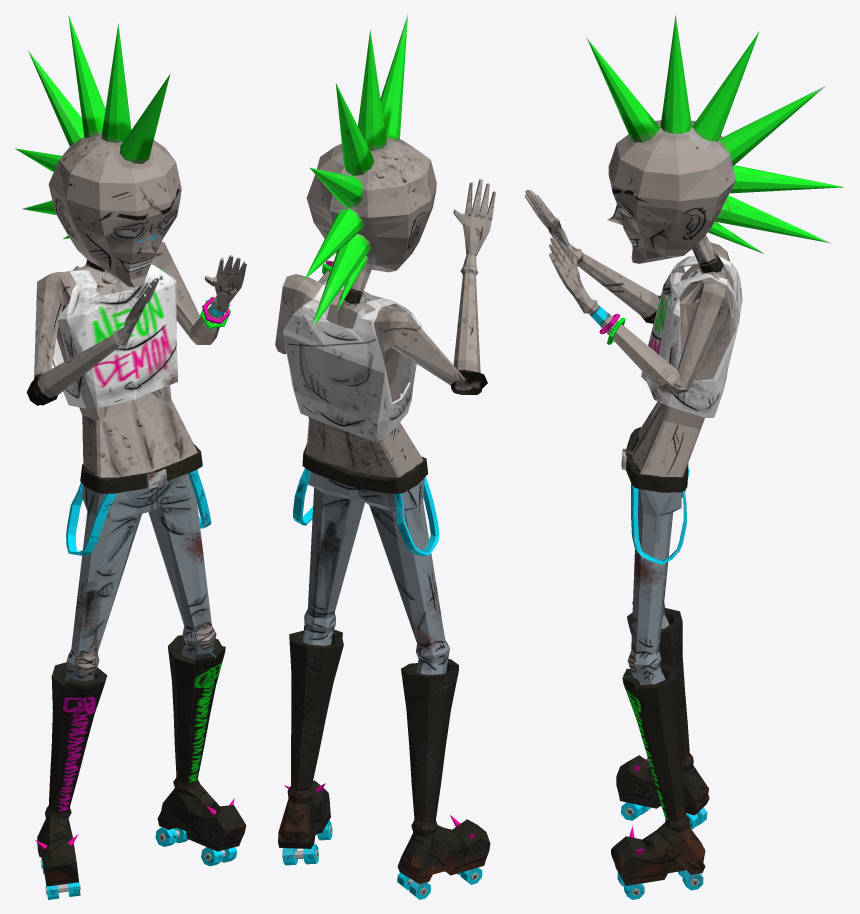
The model's file is punkAnimation_000023.obj.
3 views of the same model, side by side, from view 1: azimuth 30°, elevation 25°; view 2: azimuth 150°, elevation 25°; view 3: azimuth 270°, elevation 25° (orthographic).
Parts seen in each view (by area): view 1: Cube.004_Cube.003; view 2: Cube.004_Cube.003; view 3: Cube.004_Cube.003.
Boxes of the visible parts, x1,y1,x2,y2 form: Cube.004_Cube.003: (14,14,246,899); Cube.004_Cube.003: (275,14,495,899); Cube.004_Cube.003: (524,15,844,899).
Size of the model in its own units: 1.9 by 7.56 by 2.61.
